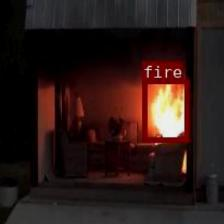fire: (142, 78, 188, 141)
